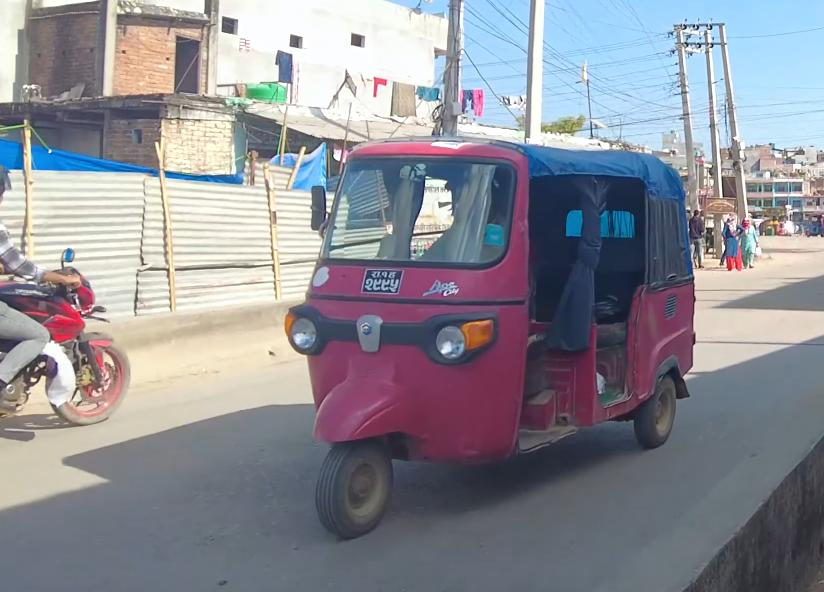auto_rickshaw: (272, 132, 718, 549)
bike: (0, 248, 130, 431)
